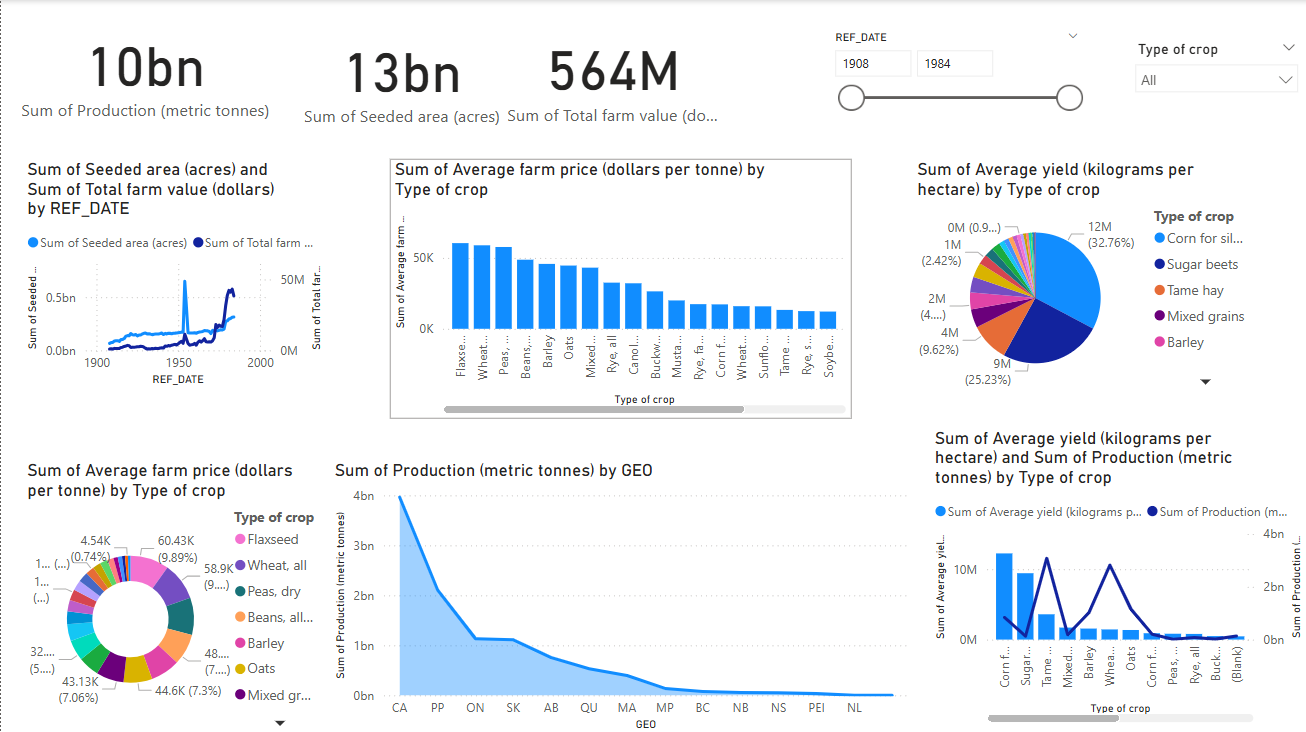

This screenshot's page, from the dashboard's own definition file:
{"tool":"powerbi","page":{"name":"Page 1","canvas":[1280,720],"ordinal":0},"visuals":[{"type":"card","fields":{"Values":["Sum(farm_production_dataset.Production (metric tonnes))"]},"box":[10,0,263.1,138],"z":0},{"type":"slicer","fields":{"Values":["farm_production_dataset.REF_DATE"]},"box":[803.4,24.5,262.9,89.3],"z":1000},{"type":"card","fields":{"Values":["Sum(farm_production_dataset.Seeded area (acres))"]},"box":[282.5,15.9,220.1,117.4],"z":2000},{"type":"card","fields":{"Values":["Sum(farm_production_dataset.Total farm value (dollars))"]},"box":[489.1,8.6,218.9,129.6],"z":3000},{"type":"lineChart","fields":{"Category":["farm_production_dataset.REF_DATE"],"Y":["Sum(farm_production_dataset.Seeded area (acres))"],"Y2":["Sum(farm_production_dataset.Total farm value (dollars))"]},"box":[20.8,155.3,299.6,227.4],"z":4000},{"type":"clusteredColumnChart","fields":{"Category":["farm_production_dataset.Type of crop"],"Y":["Sum(farm_production_dataset.Average farm price (dollars per tonne))"]},"box":[380.3,155.3,451.2,254.3],"z":5000},{"type":"pieChart","fields":{"Category":["farm_production_dataset.Type of crop"],"Y":["Sum(farm_production_dataset.Average yield (kilograms per hectare))"]},"box":[891.4,155.3,341.2,231.1],"z":6000},{"type":"donutChart","fields":{"Category":["farm_production_dataset.Type of crop"],"Y":["Sum(farm_production_dataset.Average farm price (dollars per tonne))"]},"box":[21.3,449.4,300.1,270.2],"z":7000},{"type":"areaChart","fields":{"Category":["farm_production_dataset.GEO"],"Y":["Sum(farm_production_dataset.Production (metric tonnes))"]},"box":[321.4,449.4,570.3,270.2],"z":8000},{"type":"lineStackedColumnComboChart","fields":{"Category":["farm_production_dataset.Type of crop"],"Y":["Sum(farm_production_dataset.Average yield (kilograms per hectare))"],"Y2":["Sum(farm_production_dataset.Production (metric tonnes))"]},"box":[908.6,418.2,370.5,293.5],"z":9000},{"type":"slicer","fields":{"Values":["farm_production_dataset.Type of crop"]},"box":[1099.3,34.2,179.8,99],"z":10000}]}

Visuals, with their boxes in screenshot pixels (x1, y1, x2, y2), scaled from the page's 1280x720 canvas onto the 1306x732 screenshot:
card - Sum(farm_production_dataset.Production (metric tonnes)): x1=10 y1=0 x2=279 y2=140
slicer - farm_production_dataset.REF_DATE: x1=820 y1=25 x2=1088 y2=116
card - Sum(farm_production_dataset.Seeded area (acres)): x1=288 y1=16 x2=513 y2=136
card - Sum(farm_production_dataset.Total farm value (dollars)): x1=499 y1=9 x2=722 y2=141
lineChart - farm_production_dataset.REF_DATE x Sum(farm_production_dataset.Seeded area (acres)): x1=21 y1=158 x2=327 y2=389
clusteredColumnChart - farm_production_dataset.Type of crop x Sum(farm_production_dataset.Average farm price (dollars per tonne)): x1=388 y1=158 x2=848 y2=416
pieChart - farm_production_dataset.Type of crop x Sum(farm_production_dataset.Average yield (kilograms per hectare)): x1=910 y1=158 x2=1258 y2=393
donutChart - farm_production_dataset.Type of crop x Sum(farm_production_dataset.Average farm price (dollars per tonne)): x1=22 y1=457 x2=328 y2=731
areaChart - farm_production_dataset.GEO x Sum(farm_production_dataset.Production (metric tonnes)): x1=328 y1=457 x2=910 y2=731
lineStackedColumnComboChart - farm_production_dataset.Type of crop x Sum(farm_production_dataset.Average yield (kilograms per hectare)): x1=927 y1=425 x2=1305 y2=724
slicer - farm_production_dataset.Type of crop: x1=1122 y1=35 x2=1305 y2=135
